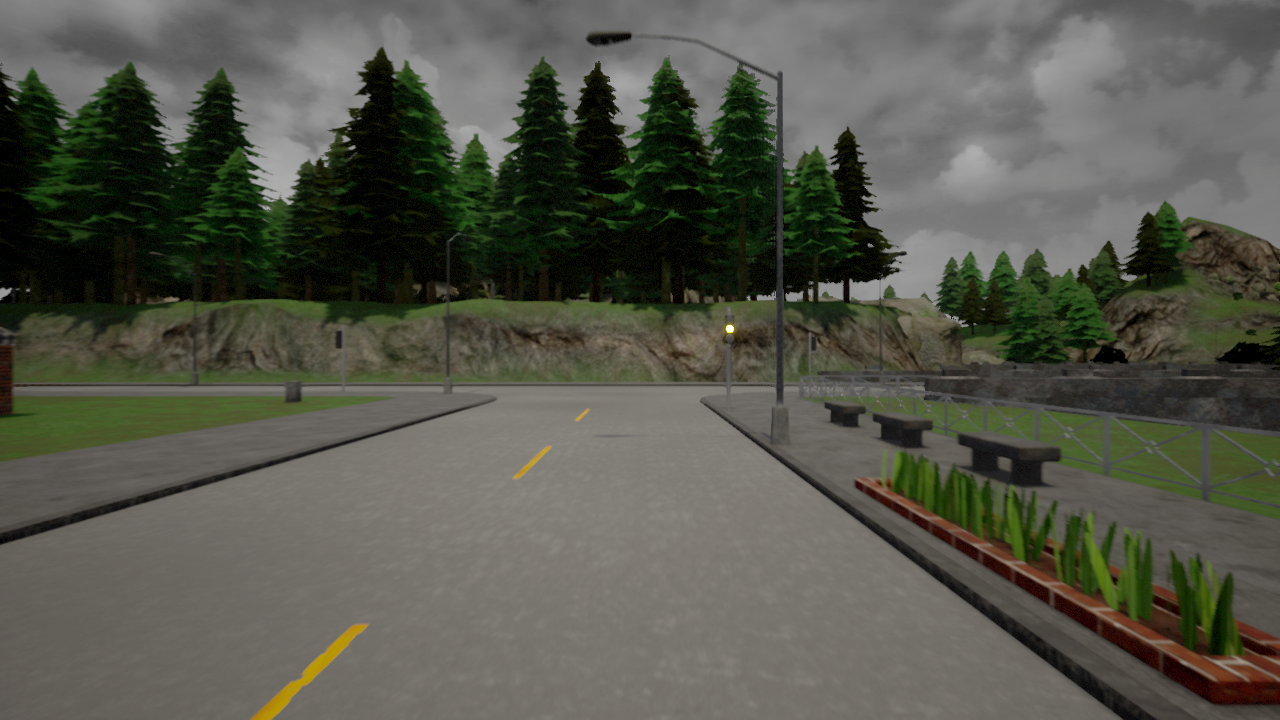yellow: (723, 313, 736, 342)
